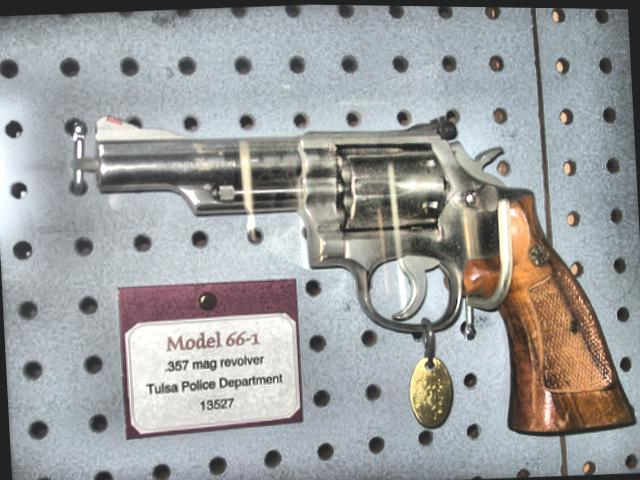pistol: (94, 95, 637, 455)
